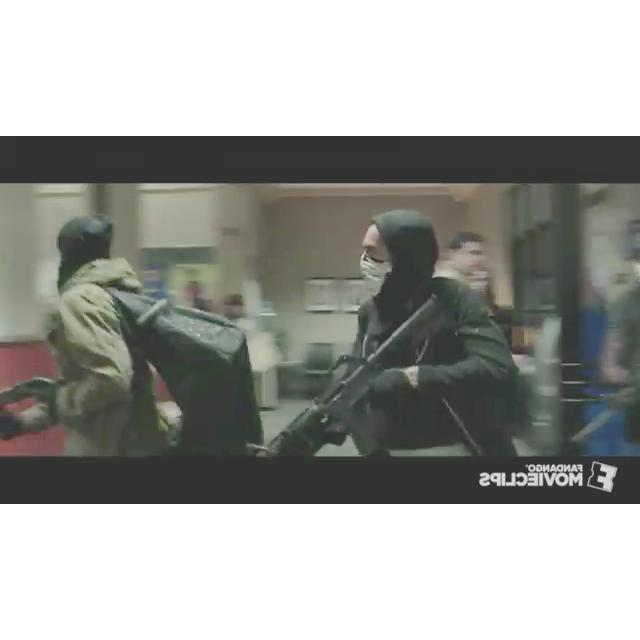criminal: (247, 208, 518, 456), (0, 216, 146, 454)
weapon: (245, 289, 447, 456), (1, 374, 64, 410)
